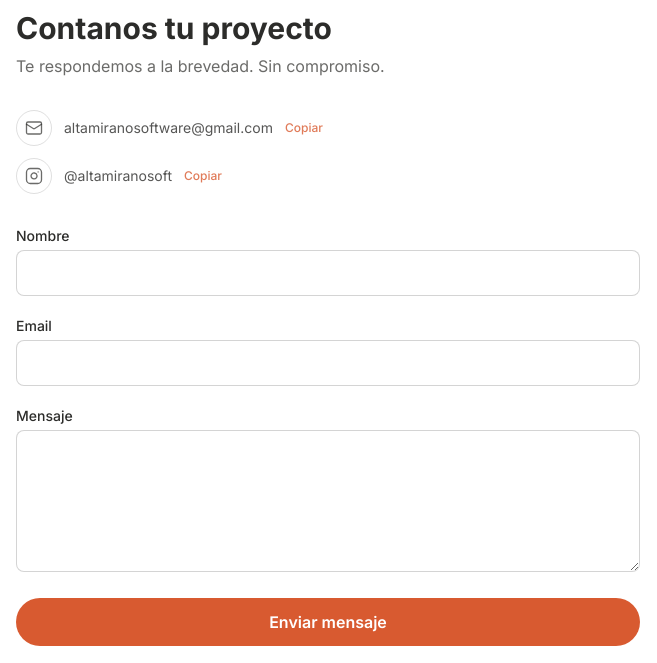
ContactSection — estados de UI › estado de carga: deshabilita el botón y muestra 'Enviando...' mientras espera la respuesta
Type "Axel Altamirano" into the field labelled "Nombre" at (328, 273), box [16, 250, 640, 296]
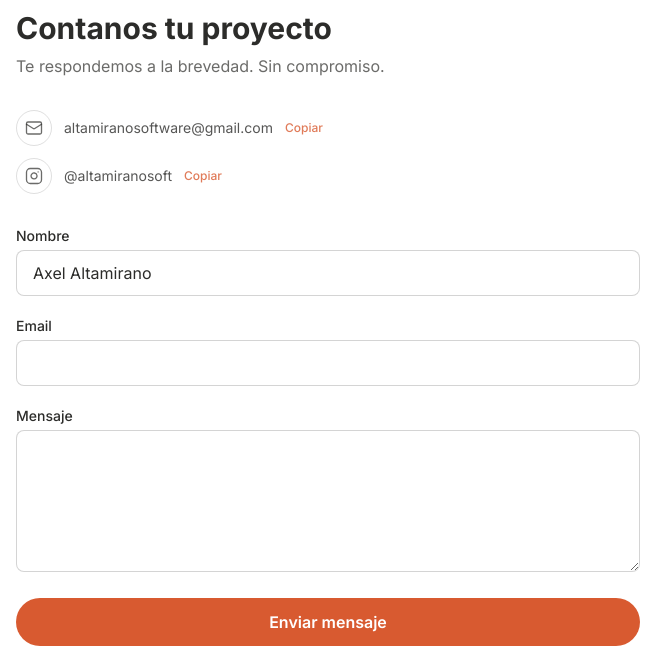
Type "axel@example.com" into the field labelled "Email" at (328, 363), box [16, 340, 640, 386]
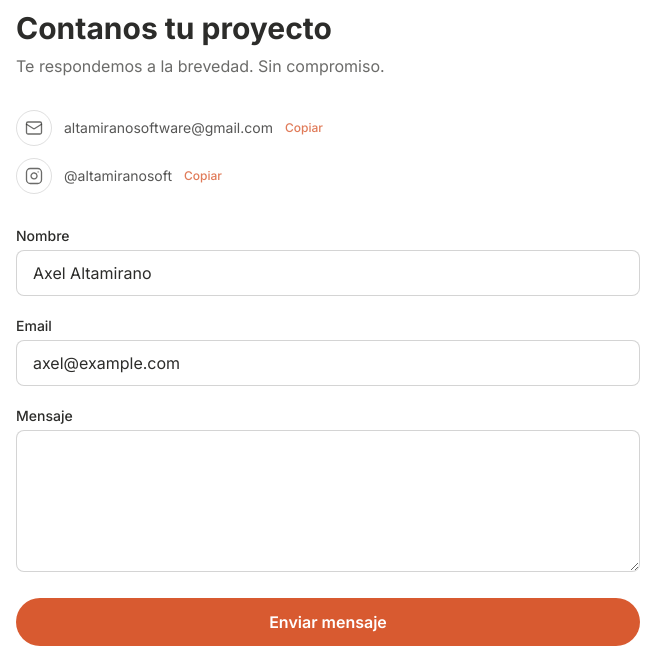
Type "Quiero cotizar un sistema para mi negocio." into the text box labelled "Mensaje" at (328, 501), box [16, 430, 640, 572]
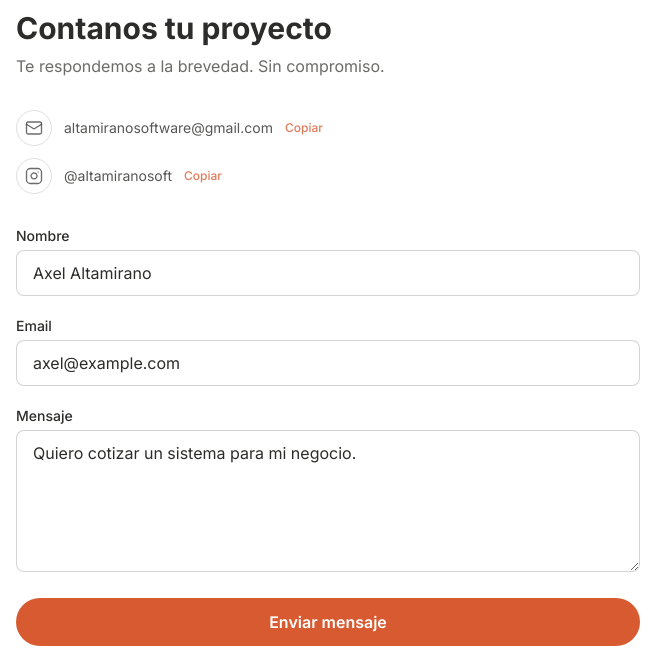
Click the button "Enviar mensaje" at (328, 622), box [16, 598, 640, 646]
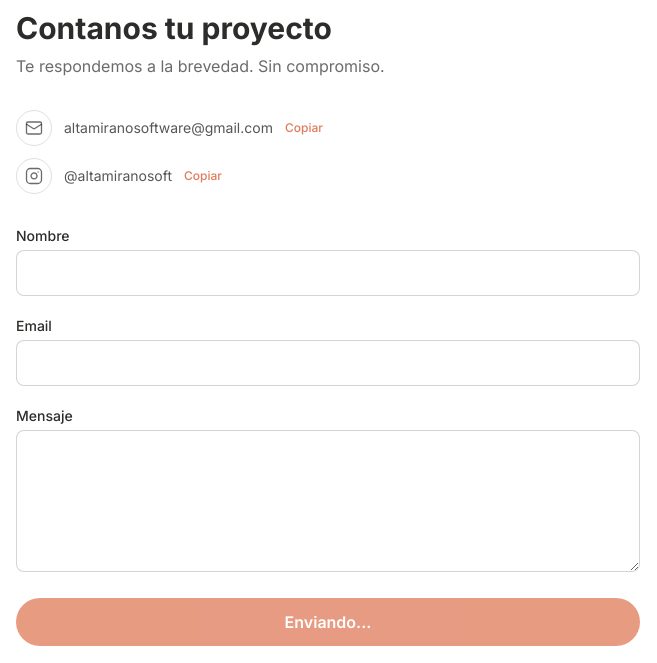
Now the button "Enviando..." is disabled, box [16, 598, 640, 646]
